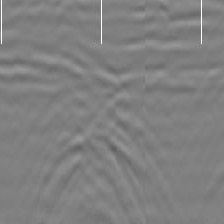Utility: (39, 117, 151, 213)
